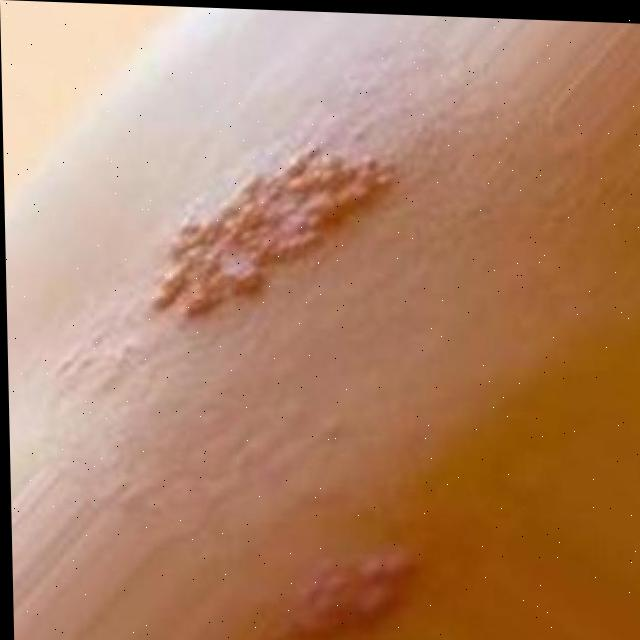Shingles: (152, 145, 400, 345), (294, 536, 423, 640)
